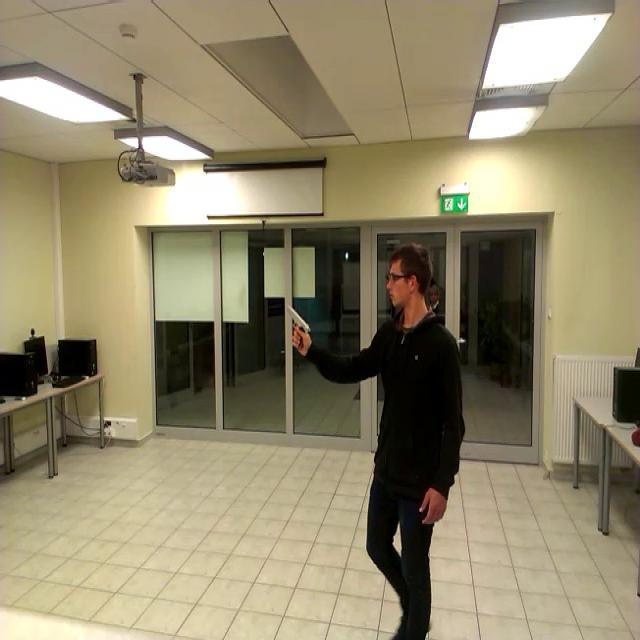Gun: (285, 304, 310, 348)
